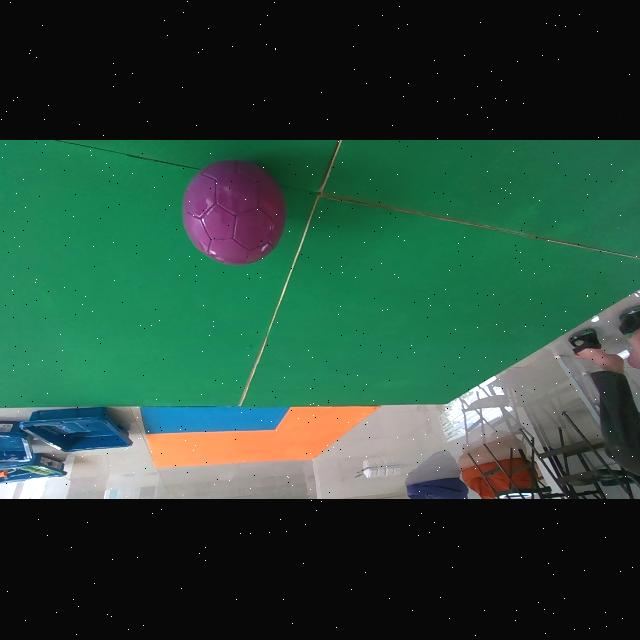P: (183, 161, 287, 266)
